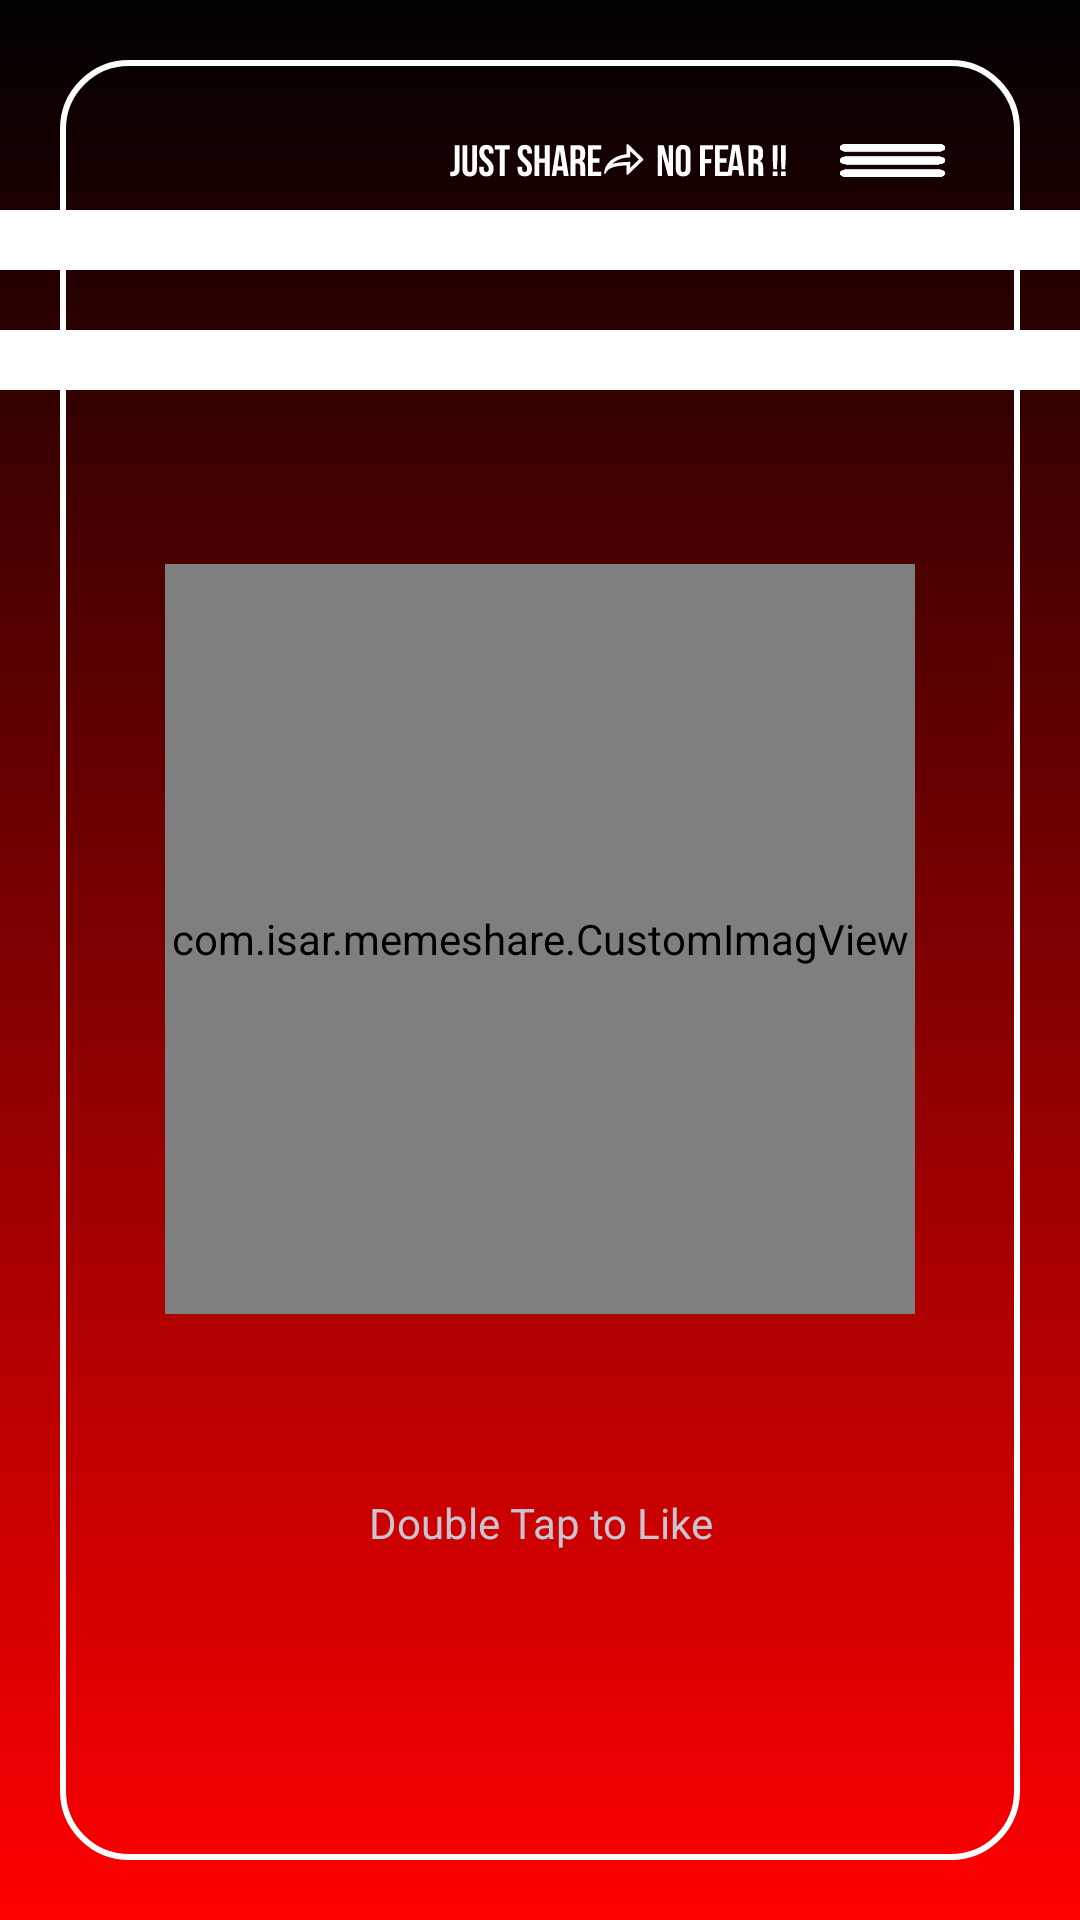

Point at icon controls on the screen. Image size 1080 x 1920, points as point (x, y).
top navigation: point (892, 160)
